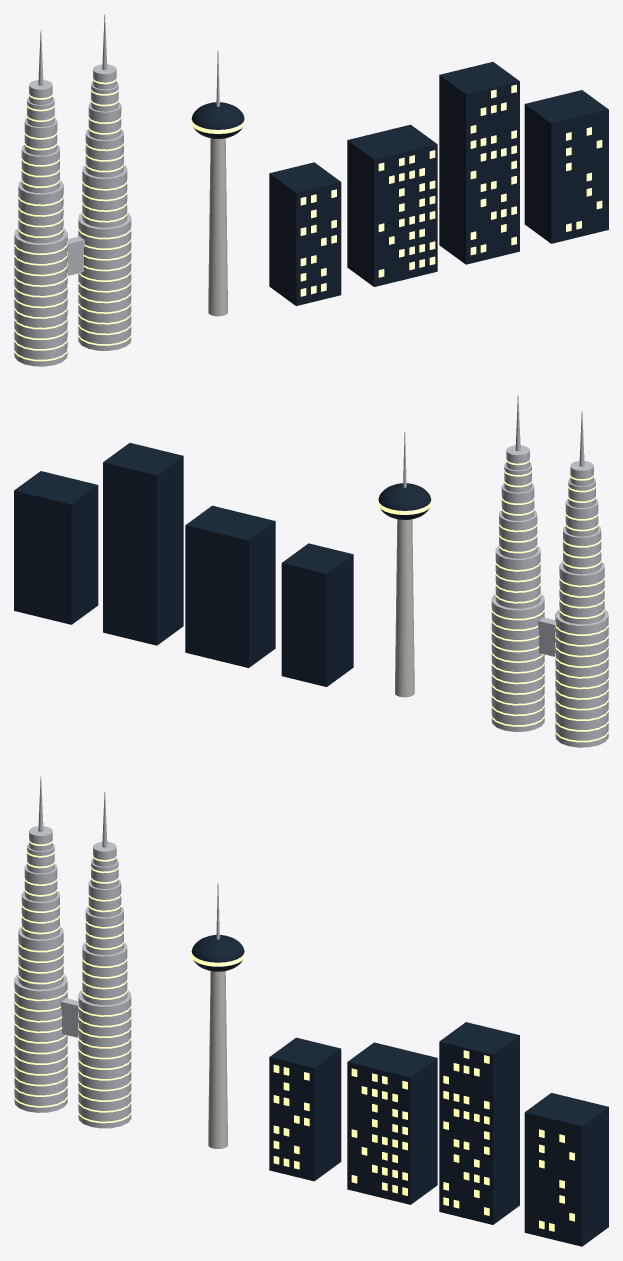
The model's file is kit_city.glb.
3 views of the same model, one above another, from view 1: azimuth 30°, elevation 25°; view 2: azimuth 150°, elevation 25°; view 3: azimuth 330°, elevation 25° (orthographic).
Visible parts, largest first — view 1: TowerBody2, TowerBody1, TowerBody3, TowerBody0, PT-1.1_0, PT1.1_0, KLShaft, PT-1.1_1, PT1.1_1, PT1.1_2, PT-1.1_2, KLPod (+6 smaller); view 2: TowerBody2, TowerBody1, TowerBody3, TowerBody0, PT-1.1_0, PT1.1_0, KLShaft, PT-1.1_1, PT1.1_1, PT1.1_2, PT-1.1_2, KLPod (+6 smaller); view 3: TowerBody2, TowerBody1, TowerBody3, TowerBody0, PT1.1_0, PT-1.1_0, KLShaft, PT-1.1_1, PT1.1_1, PT-1.1_2, PT1.1_2, KLPod (+2 smaller).
Boxes of the visible parts, left/top/right/bottom form: TowerBody2: left=439, top=62, right=519, bottom=264; TowerBody1: left=347, top=124, right=437, bottom=286; TowerBody3: left=524, top=90, right=608, bottom=243; TowerBody0: left=269, top=162, right=341, bottom=305; PT-1.1_0: left=14, top=228, right=67, bottom=366; PT1.1_0: left=78, top=212, right=131, bottom=350; KLShaft: left=208, top=138, right=227, bottom=316; PT-1.1_1: left=18, top=180, right=63, bottom=243; PT1.1_1: left=82, top=164, right=127, bottom=227; PT1.1_2: left=85, top=129, right=123, bottom=177; PT-1.1_2: left=21, top=144, right=59, bottom=193; KLPod: left=191, top=102, right=244, bottom=138; TowerBody2: left=103, top=443, right=183, bottom=645; TowerBody1: left=185, top=505, right=275, bottom=667; TowerBody3: left=14, top=471, right=98, bottom=624; TowerBody0: left=281, top=543, right=353, bottom=686; PT-1.1_0: left=555, top=609, right=608, bottom=747; PT1.1_0: left=491, top=593, right=544, bottom=731; KLShaft: left=395, top=519, right=414, bottom=697; PT-1.1_1: left=559, top=561, right=604, bottom=624; PT1.1_1: left=495, top=545, right=540, bottom=608; PT1.1_2: left=499, top=510, right=537, bottom=558; PT-1.1_2: left=563, top=525, right=601, bottom=574; KLPod: left=378, top=483, right=431, bottom=519; TowerBody2: left=439, top=1022, right=519, bottom=1224; TowerBody1: left=347, top=1042, right=437, bottom=1204; TowerBody3: left=524, top=1093, right=608, bottom=1246; TowerBody0: left=269, top=1037, right=341, bottom=1181; PT1.1_0: left=78, top=990, right=131, bottom=1128; PT-1.1_0: left=14, top=974, right=67, bottom=1112; KLShaft: left=208, top=971, right=227, bottom=1148; PT-1.1_1: left=18, top=926, right=63, bottom=989; PT1.1_1: left=82, top=942, right=127, bottom=1005; PT-1.1_2: left=21, top=890, right=59, bottom=939; PT1.1_2: left=85, top=906, right=123, bottom=954; KLPod: left=191, top=935, right=244, bottom=971.
Size of the model in its own units: 19.9 by 10.7 by 1.64.
